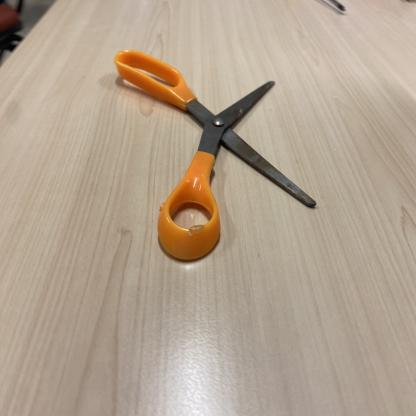scissors: (114, 47, 317, 263)
